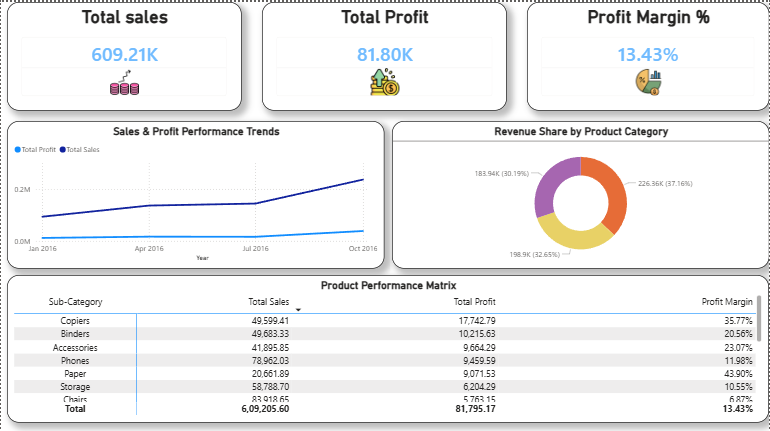

Layout of this report page (visuals, bound fields, positions):
{"tool":"powerbi","page":{"name":"Executive Summary","canvas":[1280,720],"ordinal":0},"visuals":[{"type":"cardVisual","title":"Total sales","fields":{"Data":["Sample - Superstore.Total Sales"]},"box":[10.2,0,390.7,181.5],"z":0},{"type":"cardVisual","title":"Total Profit","fields":{"Data":["Sample - Superstore.Total Profit"]},"box":[434.6,0,408.3,181.5],"z":1},{"type":"cardVisual","title":"Profit Margin %","fields":{"Data":["Sample - Superstore.Profit Margin"]},"box":[876.6,0,403.9,181.5],"z":2},{"type":"lineChart","title":"Sales & Profit Performance Trends","fields":{"Y":["Sample - Superstore.Total Profit","Sample - Superstore.Total Sales"],"Category":["Sample - Superstore.Order Date.Variation.Date Hierarchy.Year","Sample - Superstore.Order Date.Variation.Date Hierarchy.Quarter","Sample - Superstore.Order Date.Variation.Date Hierarchy.Month","Sample - Superstore.Order Date.Variation.Date Hierarchy.Day"]},"box":[10.2,199,629.3,245.9],"z":3},{"type":"donutChart","title":"Revenue Share by Product Category","fields":{"Category":["Sample - Superstore.Category"],"Y":["Sample - Superstore.Total Sales"]},"box":[651.2,199,629.3,245.9],"z":4},{"type":"pivotTable","title":"Product Performance Matrix","fields":{"Rows":["Sample - Superstore.Sub-Category"],"Values":["Sample - Superstore.Total Sales","Sample - Superstore.Total Profit","Sample - Superstore.Profit Margin"]},"box":[10.2,455.1,1270.2,245.9],"z":5}]}

Visuals, with their boxes in screenshot pixels (x1, y1, x2, y2), scaled from the page's 1280x720 canvas onto the 770x431 screenshot:
"Total sales" cardVisual: (left=6, top=0, right=241, bottom=109)
"Total Profit" cardVisual: (left=261, top=0, right=507, bottom=109)
"Profit Margin %" cardVisual: (left=527, top=0, right=769, bottom=109)
"Sales & Profit Performance Trends" lineChart: (left=6, top=119, right=385, bottom=266)
"Revenue Share by Product Category" donutChart: (left=392, top=119, right=769, bottom=266)
"Product Performance Matrix" pivotTable: (left=6, top=272, right=769, bottom=420)
